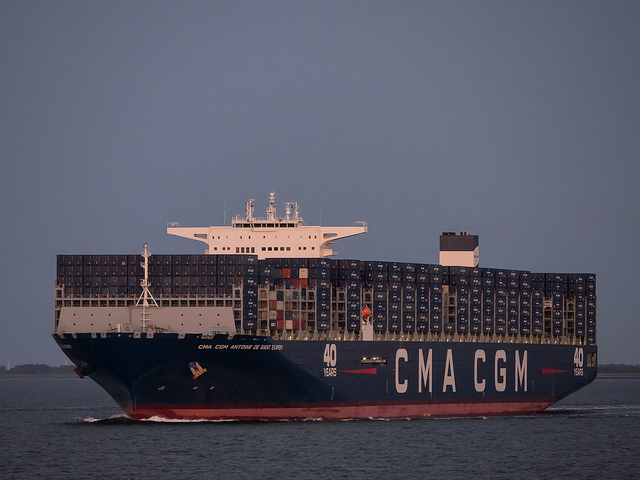container_ship: (55, 190, 599, 417)
